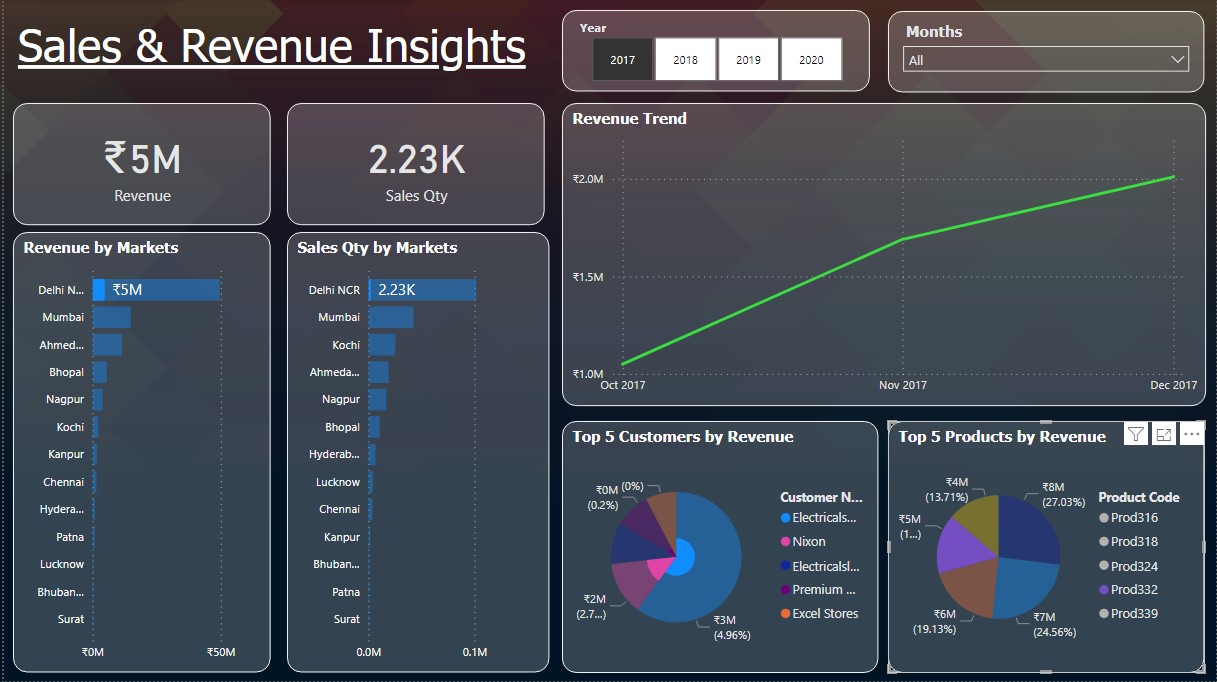

The page's visual inventory and layout, read from the dashboard file:
{"tool":"powerbi","page":{"name":"Page 1","canvas":[1280,720],"ordinal":0},"visuals":[{"type":"card","fields":{"Values":["BaseMeasures.Revenue"]},"box":[9.9,110,271.6,128.7],"z":0},{"type":"card","fields":{"Values":["BaseMeasures.Sales Qty"]},"box":[299.1,110,271.6,128.7],"z":1000},{"type":"barChart","title":"Revenue by Markets","fields":{"Y":["BaseMeasures.Revenue"],"Category":["sales markets.markets_name"]},"box":[9.9,246.3,271.6,465.2],"z":2000},{"type":"barChart","title":"Sales Qty by Markets","fields":{"Y":["BaseMeasures.Sales Qty"],"Category":["sales markets.markets_name"]},"box":[299.1,246.3,277.1,465.2],"z":3000},{"type":"slicer","fields":{"Values":["sales date.year"]},"box":[589.4,12.1,325.5,85.8],"z":4000},{"type":"slicer","fields":{"Values":["sales date.cy_date"]},"box":[933.6,13.2,334.3,85.8],"z":5000},{"type":"pieChart","title":"Top 5 Customers by Revenue","fields":{"Category":["sales customers.custmer_name"],"Y":["BaseMeasures.Revenue"]},"box":[589.4,445.4,334.3,266.1],"z":6000},{"type":"pieChart","title":"Top 5 Products by Revenue","fields":{"Category":["sales transactions.product_code"],"Y":["BaseMeasures.Revenue"]},"box":[933.6,445.4,334.3,266.1],"z":7000},{"type":"lineChart","title":"Revenue Trend","fields":{"Y":["BaseMeasures.Revenue"],"Category":["sales date.cy_date"]},"box":[589.4,110,679.6,320],"z":8000},{"type":"textbox","box":[9.9,13.4,570.6,85.1],"z":9000}]}

Visuals, with their boxes in screenshot pixels (x1, y1, x2, y2), scaled from the page's 1280x720 canvas onto the 1217x682 screenshot:
card - BaseMeasures.Revenue: x1=9, y1=104, x2=268, y2=226
card - BaseMeasures.Sales Qty: x1=284, y1=104, x2=543, y2=226
"Revenue by Markets" barChart: x1=9, y1=233, x2=268, y2=674
"Sales Qty by Markets" barChart: x1=284, y1=233, x2=548, y2=674
slicer - sales date.year: x1=560, y1=11, x2=870, y2=93
slicer - sales date.cy_date: x1=888, y1=13, x2=1205, y2=94
"Top 5 Customers by Revenue" pieChart: x1=560, y1=422, x2=878, y2=674
"Top 5 Products by Revenue" pieChart: x1=888, y1=422, x2=1205, y2=674
"Revenue Trend" lineChart: x1=560, y1=104, x2=1207, y2=407
textbox: x1=9, y1=13, x2=552, y2=93
